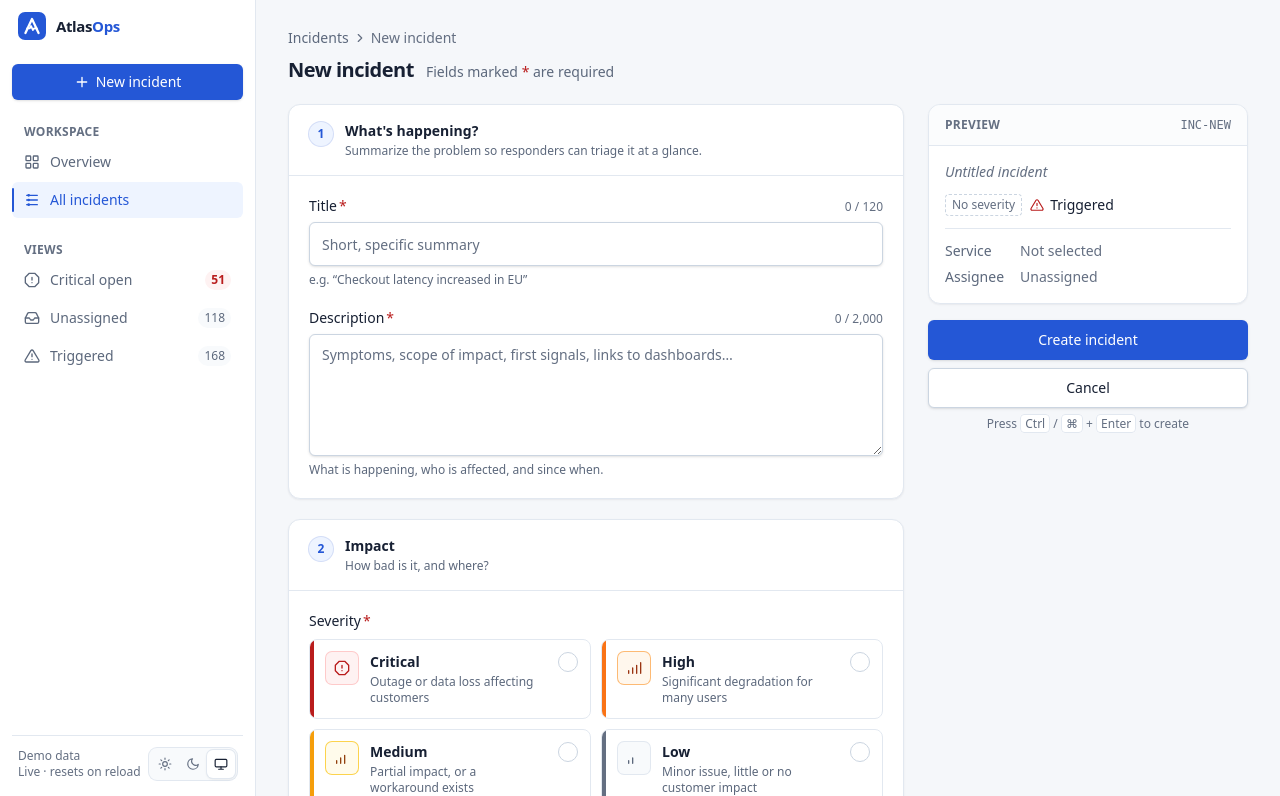
Create incident page › creates the incident and redirects to it
The width and height of the screenshot is (1280, 796).
Expected: the heading "New incident" is shown, top-left (288, 56), bottom-right (414, 84)
Type "Checkout latency increased" into the field labelled "Title*" at [596, 244], box top-left (309, 222), bottom-right (883, 266)
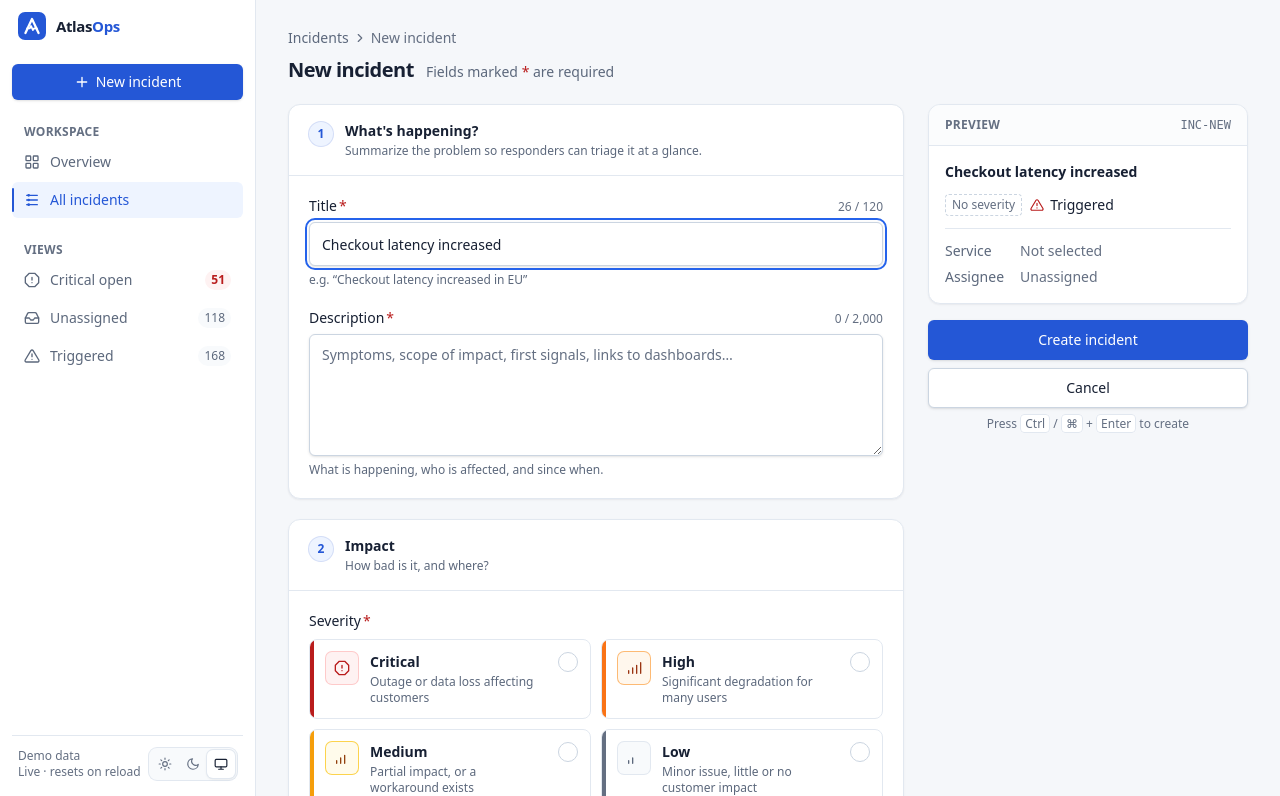
Type "The 95th percentile latency has exceeded the alert threshold." into the text box labelled "Description*" at [596, 395], box top-left (309, 334), bottom-right (883, 456)
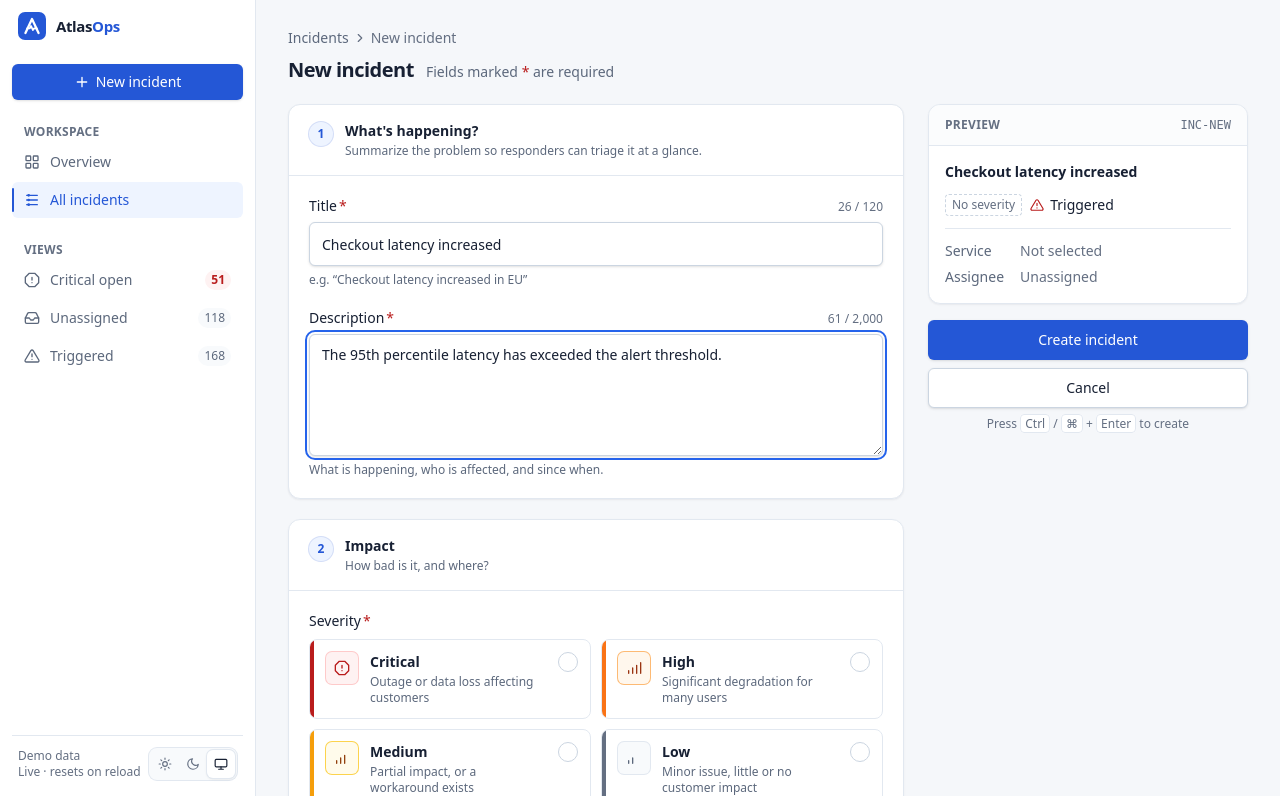
Click the radio button labelled "High Significant degradation for many users" at [742, 679], box top-left (601, 639), bottom-right (883, 719)
(page scrolled)
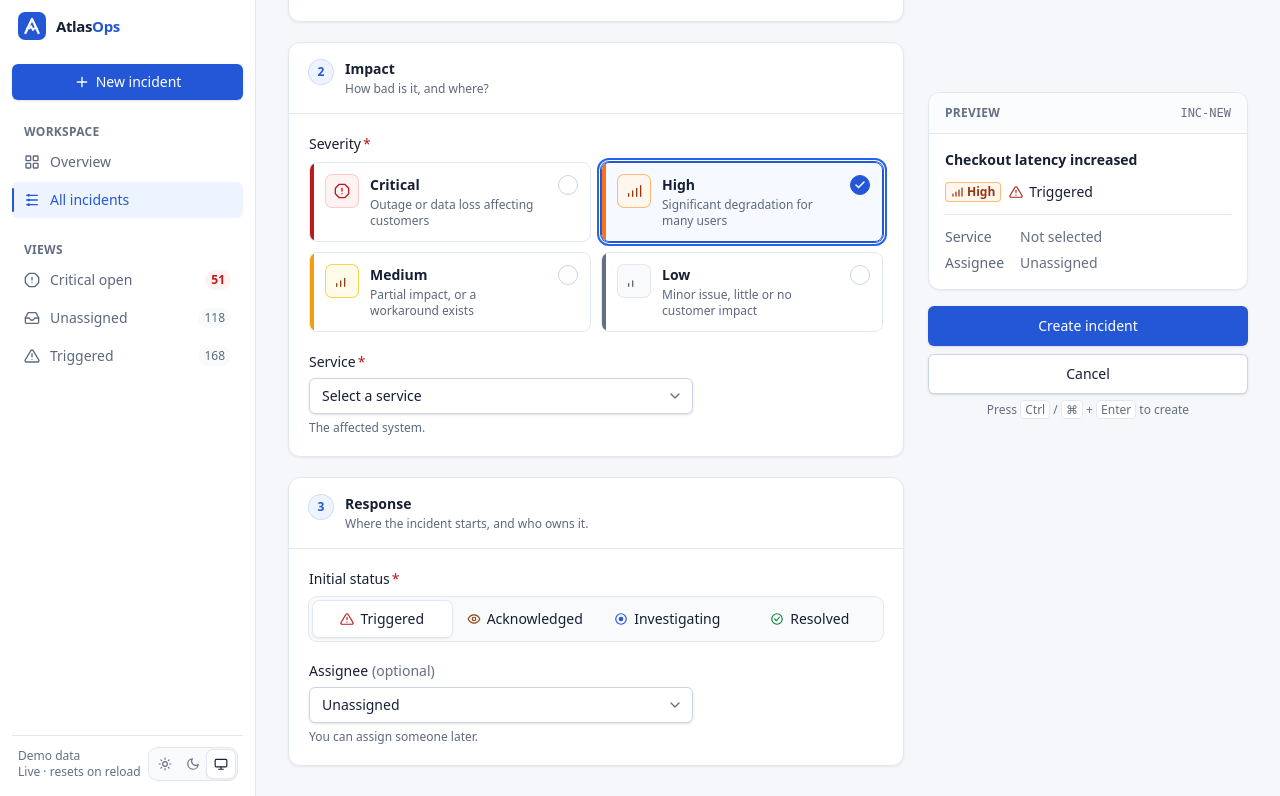
Select "checkout-web" in the dropdown labelled "Service*" at [501, 396], box top-left (309, 378), bottom-right (693, 414)
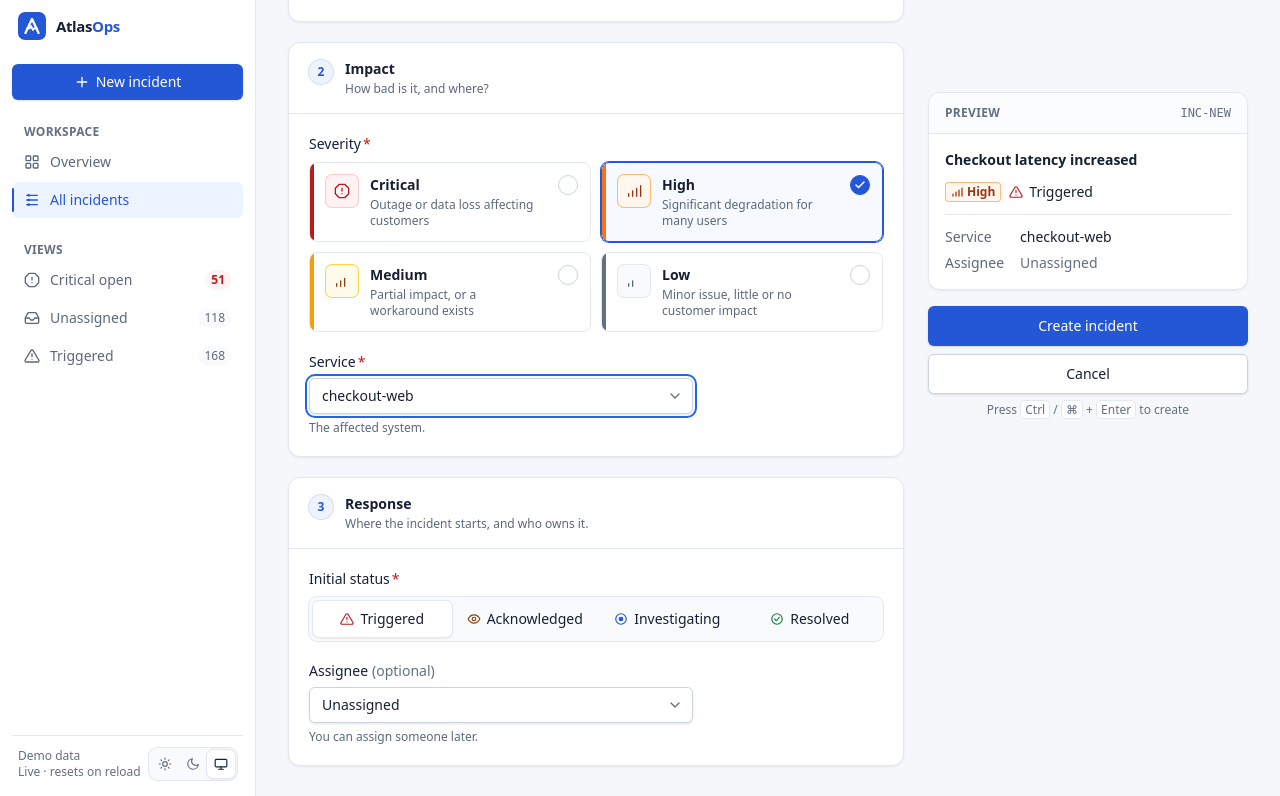
Select "Omar Hassan" in the dropdown labelled "Assignee(optional)" at [501, 705], box top-left (309, 687), bottom-right (693, 723)
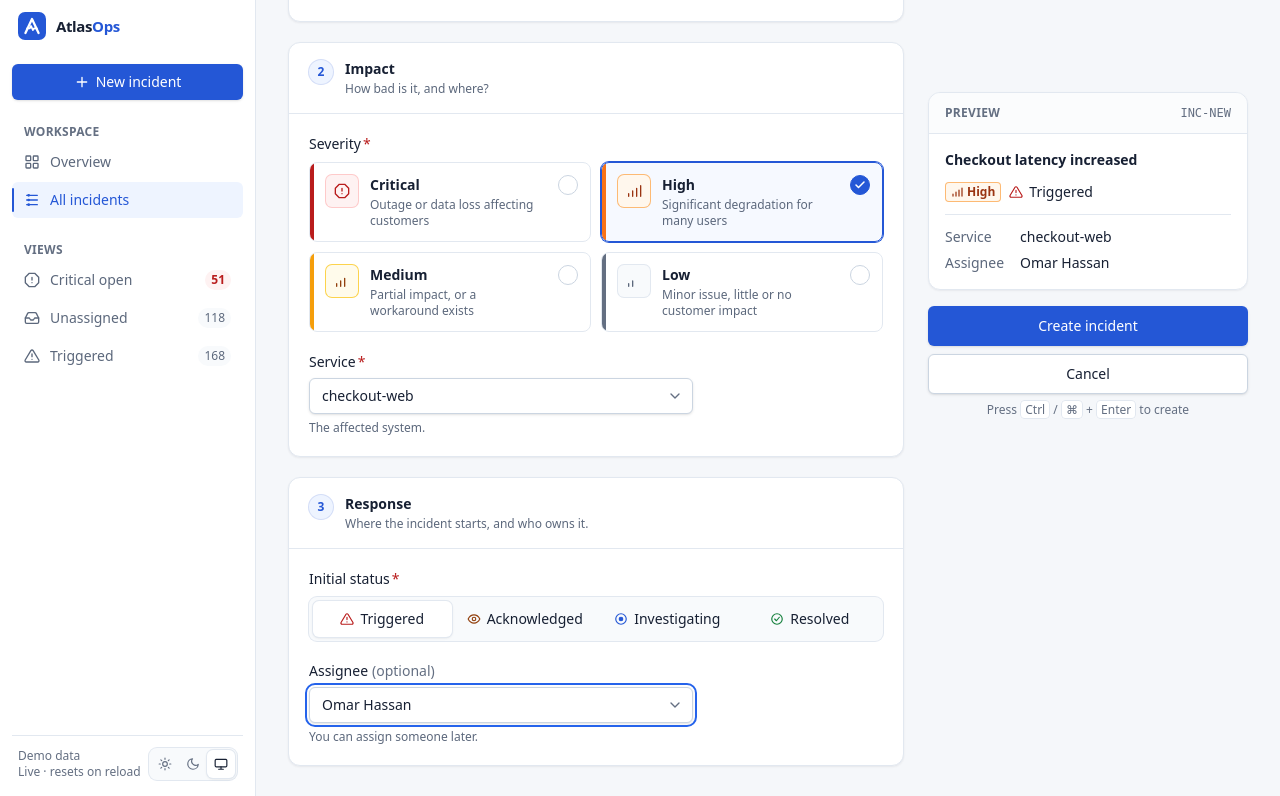
Click the button "Create incident" at [1088, 326], box top-left (928, 306), bottom-right (1248, 346)
(page scrolled)
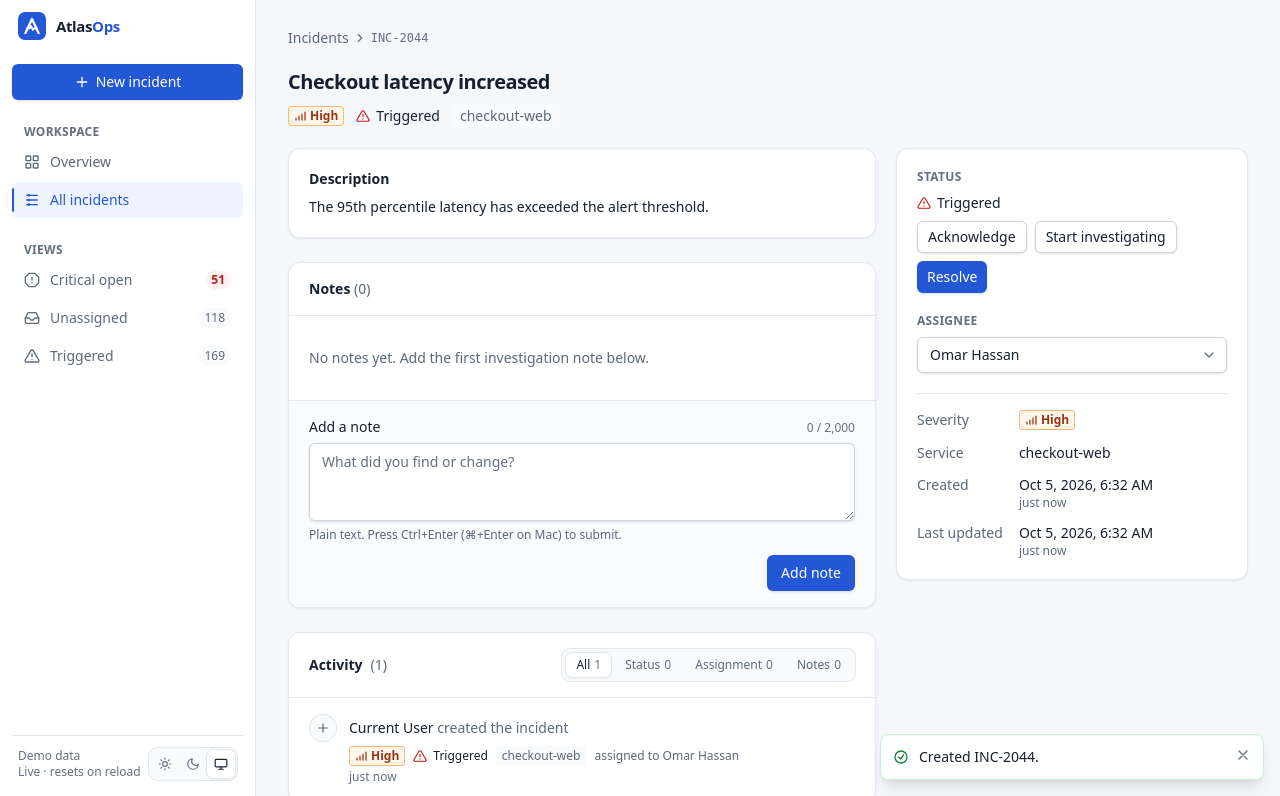
Now the element that starts with "Status" shows "checkout-web", box top-left (1019, 443), bottom-right (1111, 462)
Now the heading "Checkout latency increased" is shown, box top-left (288, 68), bottom-right (550, 96)
